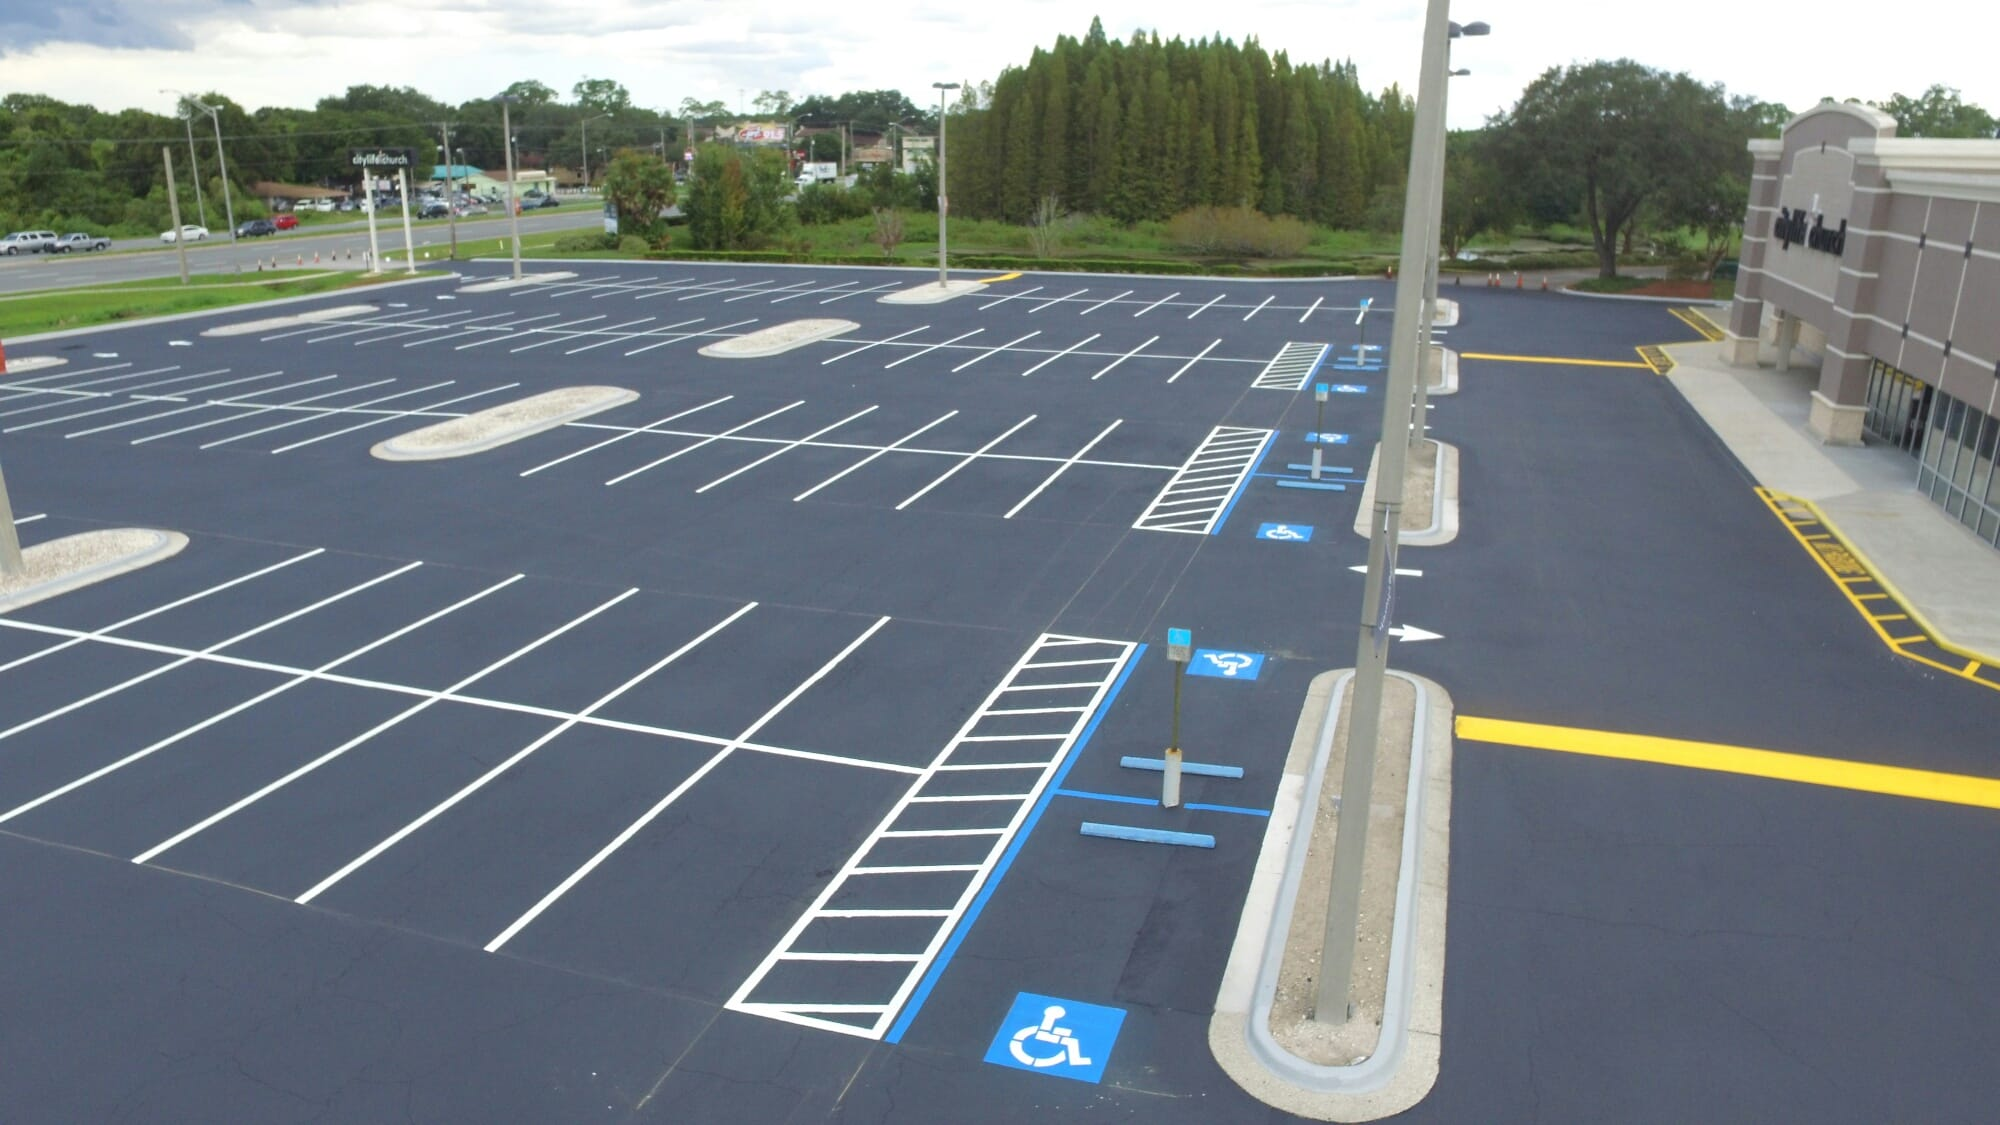Car: (0, 229, 59, 257), (47, 232, 111, 255), (793, 162, 837, 187), (228, 220, 277, 240), (161, 225, 209, 243), (416, 203, 448, 220), (271, 213, 298, 231), (456, 205, 488, 218), (293, 199, 319, 212), (523, 188, 552, 199), (273, 201, 301, 212), (521, 198, 543, 210), (317, 199, 337, 212), (540, 199, 560, 207), (341, 201, 354, 212), (359, 198, 368, 213)
